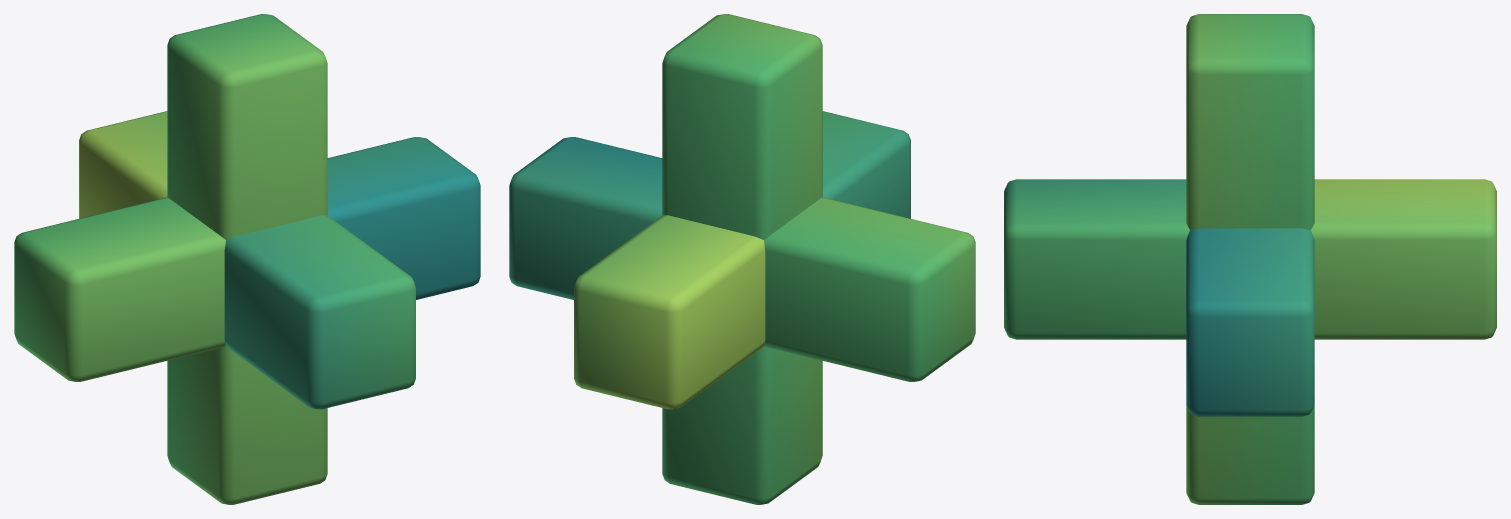
The model's file is Pack of health .glb.
The picture shows the model from 3 angles, left to right: view 1: azimuth 30°, elevation 25°; view 2: azimuth 150°, elevation 25°; view 3: azimuth 270°, elevation 25°; orthographic projection. The views are drawn at different scales.
Parts seen in each view (by area): view 1: HP; view 2: HP; view 3: HP.
Part boxes in pixels (bbox=[...]): HP: bbox=[14, 14, 480, 504]; HP: bbox=[509, 14, 975, 504]; HP: bbox=[1004, 14, 1496, 504].
Size of what is drawn, in the model's own units: 0.9682 by 0.9682 by 0.9682.
1 material, 1 textured.
